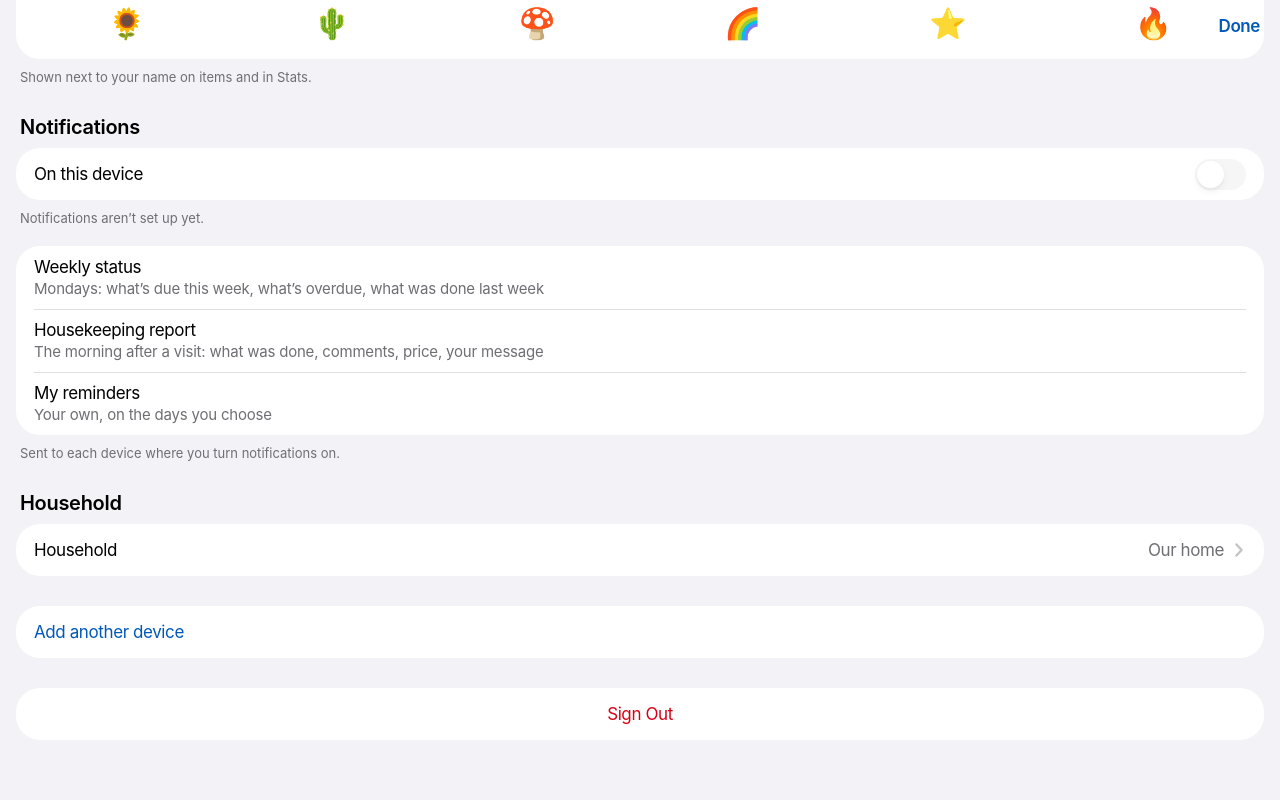
People in server mode › someone not joined: Invite instead of a Google email, and Remove as before
The image size is (1280, 800).
Later steps or results of the test are not shown.
(page scrolled)
Click the button "Household Our home". click: x=75, y=550
box: [16, 524, 1264, 576]
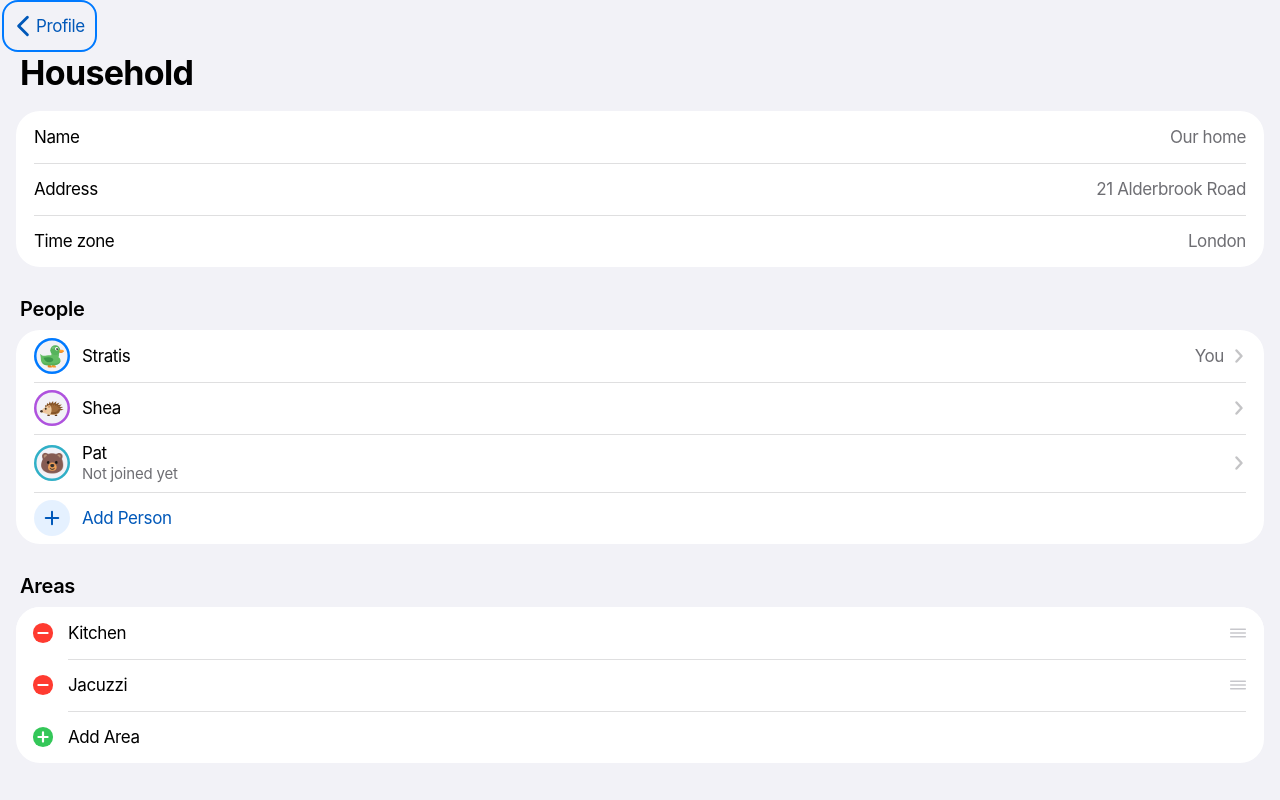
Expected: the heading "Household" is shown, [20, 52, 193, 93]
Click the button "🐻 Pat Not joined yet". click: x=52, y=463
box: [16, 434, 1264, 492]
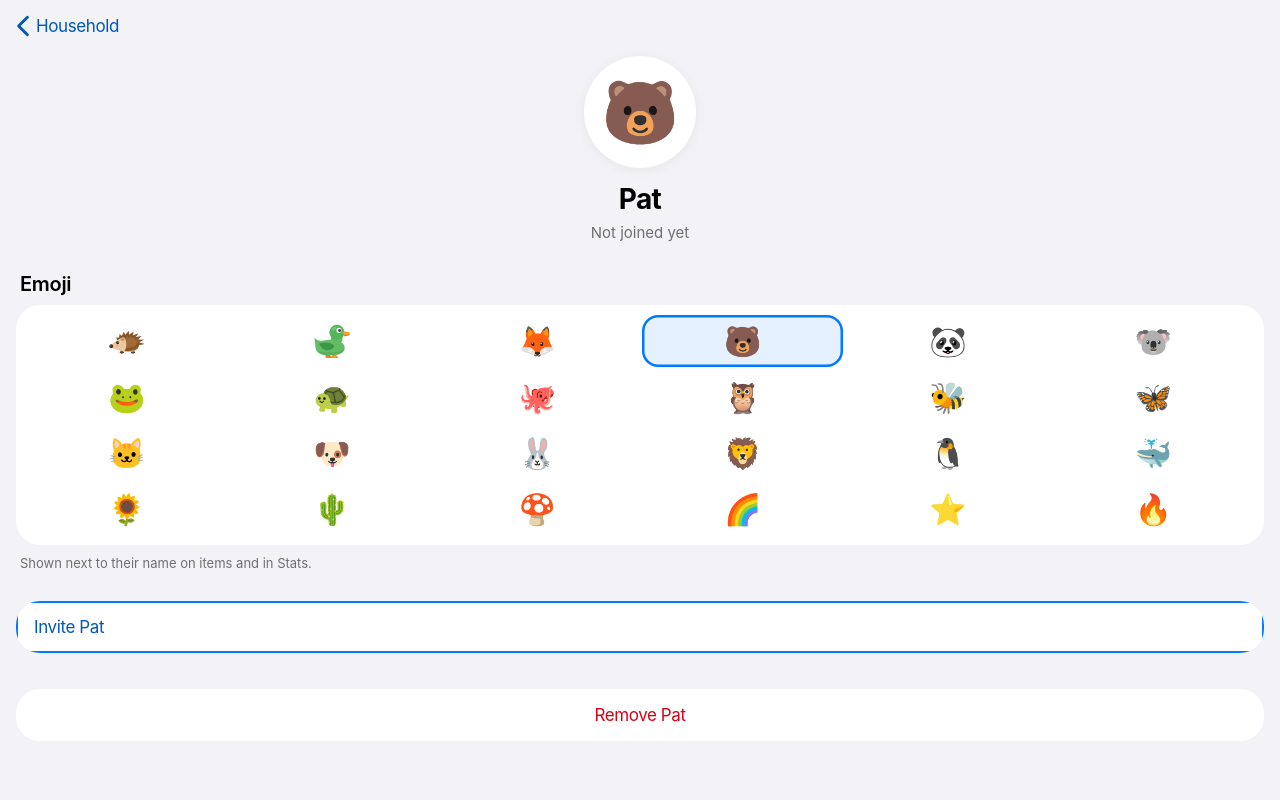
Expected: the button "Remove Pat" is shown, [16, 689, 1264, 741]
